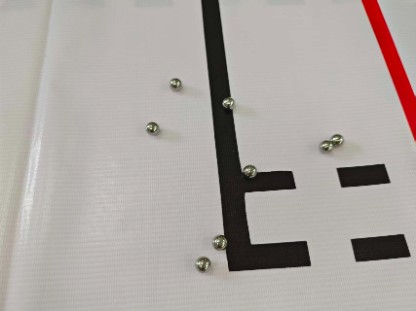ironball: (210, 233, 226, 248), (195, 256, 209, 271), (243, 163, 256, 177), (221, 96, 235, 109), (318, 140, 332, 153), (329, 133, 344, 144), (145, 121, 155, 134), (167, 76, 179, 86)
